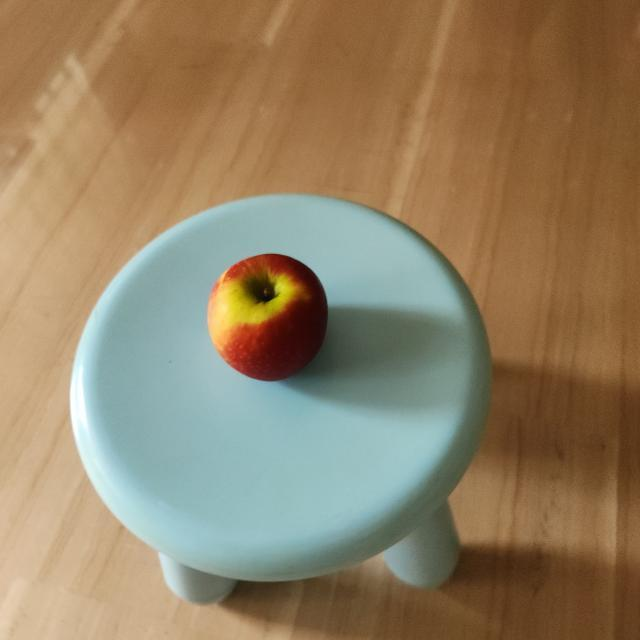apple: (203, 240, 336, 392)
